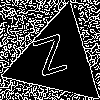Z: (31, 34, 73, 86)
